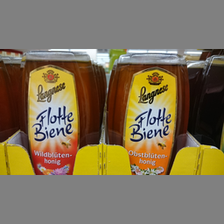honey: (20, 50, 100, 177), (109, 52, 190, 174)
